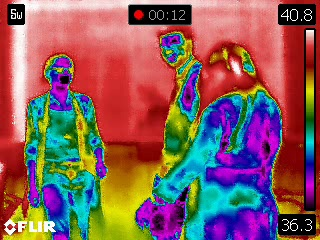human: (169, 40, 285, 240), (141, 24, 213, 240), (28, 52, 109, 240)
